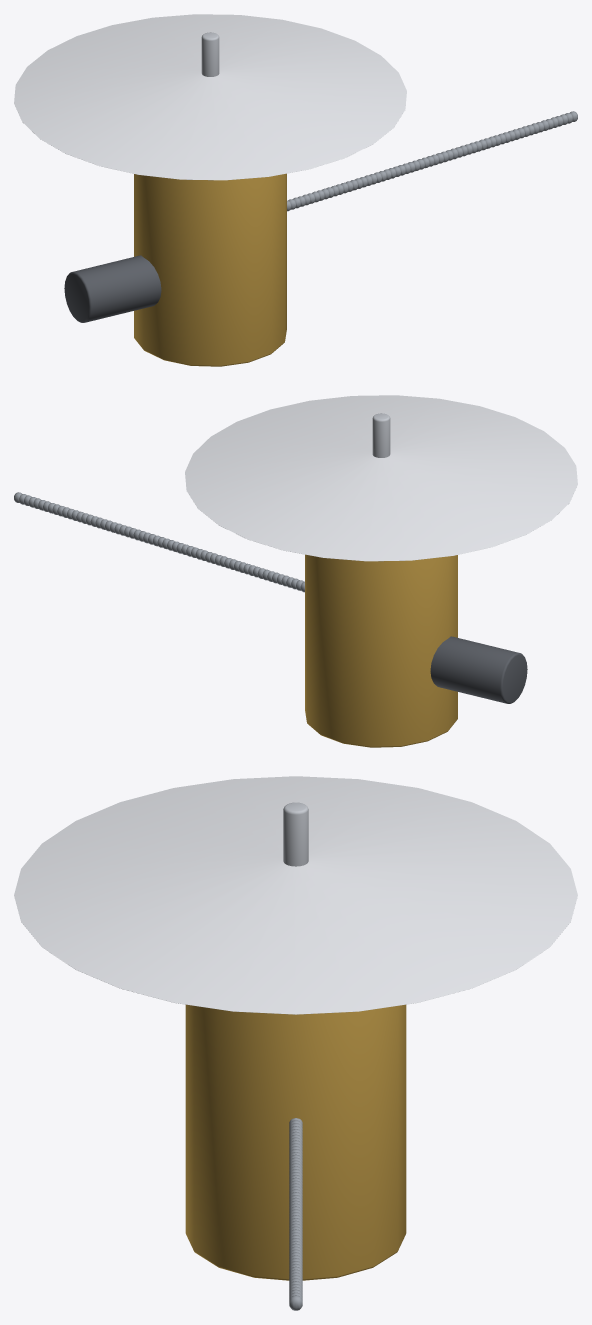
File: sonda_cassini.glb
3 renders of one model, top to bottom at view 1: azimuth 30°, elevation 25°; view 2: azimuth 150°, elevation 25°; view 3: azimuth 270°, elevation 25°, orthographic. The views are drawn at different scales.
Visible parts, largest first — view 1: sonda_cassini; view 2: sonda_cassini; view 3: sonda_cassini.
Part boxes in pixels (x1=…): sonda_cassini: x1=14, y1=14, x2=577, y2=366; sonda_cassini: x1=14, y1=395, x2=577, y2=747; sonda_cassini: x1=14, y1=776, x2=577, y2=1310.
Bounding box in the file's own units: 2.82 × 1.5 × 1.79.
